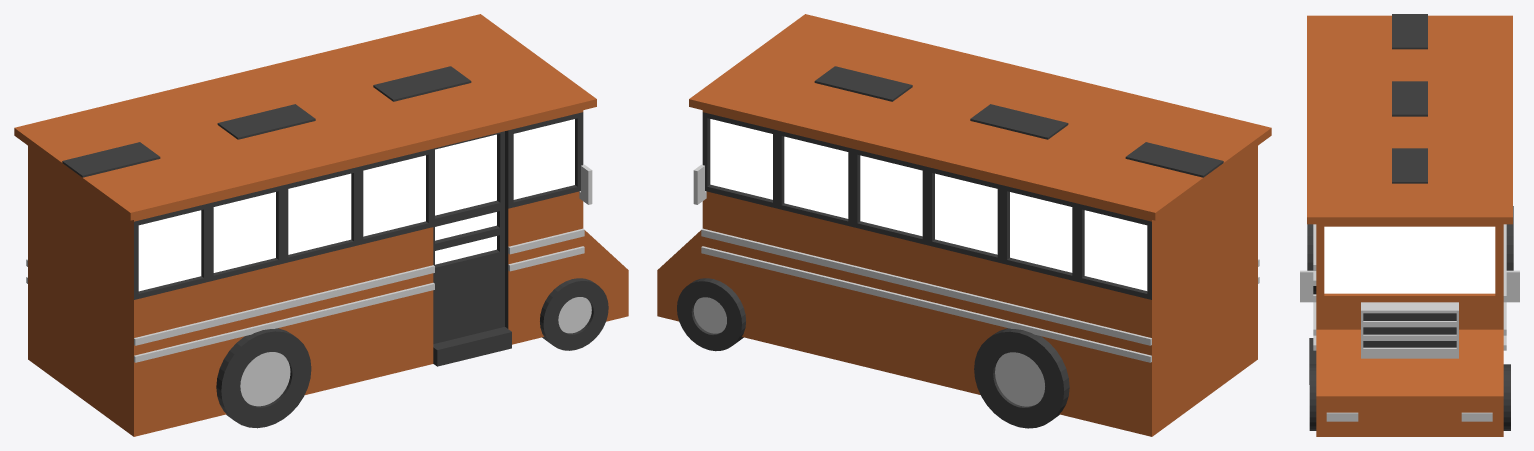
The model's file is Car 1.1.fbx.
The picture shows the model from 3 angles, left to right: view 1: azimuth 30°, elevation 25°; view 2: azimuth 150°, elevation 25°; view 3: azimuth 270°, elevation 25°; orthographic projection. The views are drawn at different scales.
Visible parts, largest first — view 1: Car_2.001; view 2: Car_2.001; view 3: Car_2.001.
Boxes of the visible parts, bbox=[...] form: Car_2.001: bbox=[14, 14, 628, 436]; Car_2.001: bbox=[657, 14, 1271, 436]; Car_2.001: bbox=[1300, 14, 1519, 436].
Size of the model in its own units: 768 by 362 by 327.
